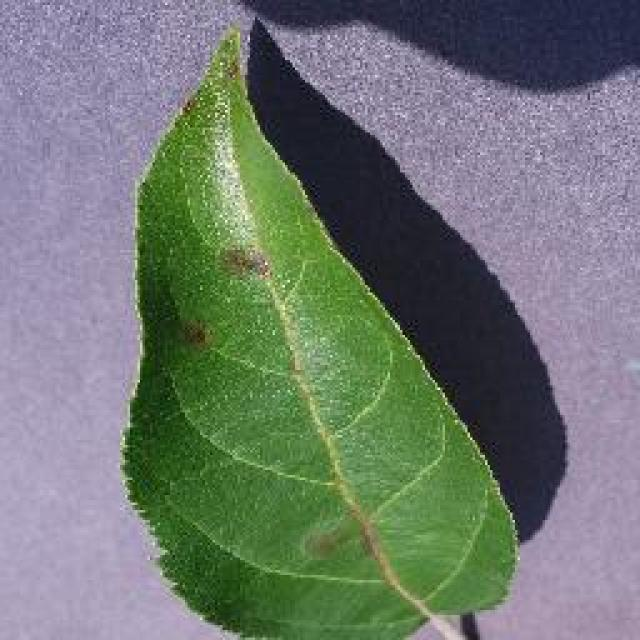apple scab disease: (115, 22, 523, 638)
